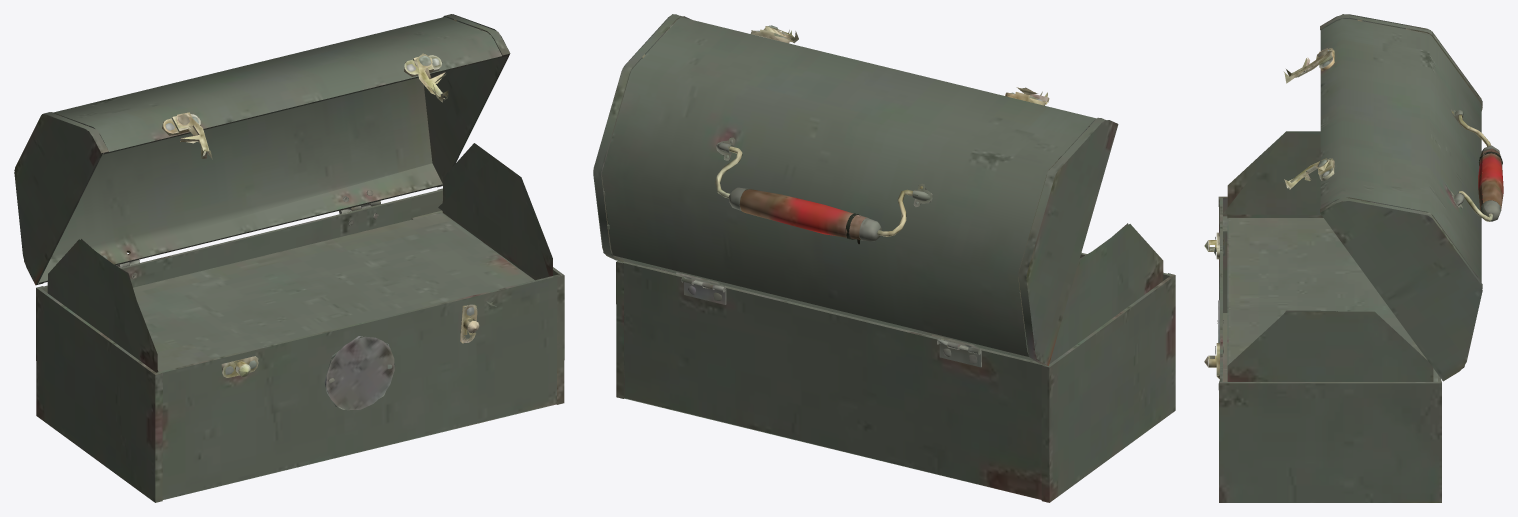
The model's file is metal_toolbox.glb.
3 renders of one model, left to right at view 1: azimuth 30°, elevation 25°; view 2: azimuth 150°, elevation 25°; view 3: azimuth 270°, elevation 25°, orthographic. The views are drawn at different scales.
Visible parts, largest first — view 1: metal_toolbox, Cylinder.015, metal_toolbox_tray, metal_toolbox_handle_latch_r, metal_toolbox_handle_latch_l; view 2: Cylinder.015, metal_toolbox, metal_toolbox_tray, metal_toolbox_handle; view 3: Cylinder.015, metal_toolbox_tray, metal_toolbox, metal_toolbox_handle, metal_toolbox_handle_latch_l, metal_toolbox_handle_latch_r.
Boxes of the visible parts, box(x1,y1,x2,y2) form: metal_toolbox: box(36, 188, 564, 502); Cylinder.015: box(14, 14, 510, 285); metal_toolbox_tray: box(47, 143, 552, 372); metal_toolbox_handle_latch_r: box(414, 53, 448, 102); metal_toolbox_handle_latch_l: box(176, 112, 212, 159); Cylinder.015: box(593, 14, 1118, 365); metal_toolbox: box(616, 252, 1175, 502); metal_toolbox_tray: box(629, 223, 1163, 363); metal_toolbox_handle: box(715, 146, 912, 244); Cylinder.015: box(1317, 14, 1482, 381); metal_toolbox_tray: box(1223, 131, 1433, 381); metal_toolbox: box(1204, 196, 1441, 502); metal_toolbox_handle: box(1458, 114, 1503, 221); metal_toolbox_handle_latch_l: box(1283, 48, 1332, 83); metal_toolbox_handle_latch_r: box(1284, 158, 1330, 189).
Size of the model in its own units: 0.4 by 0.3054 by 0.2713.
1 material, 1 textured.
